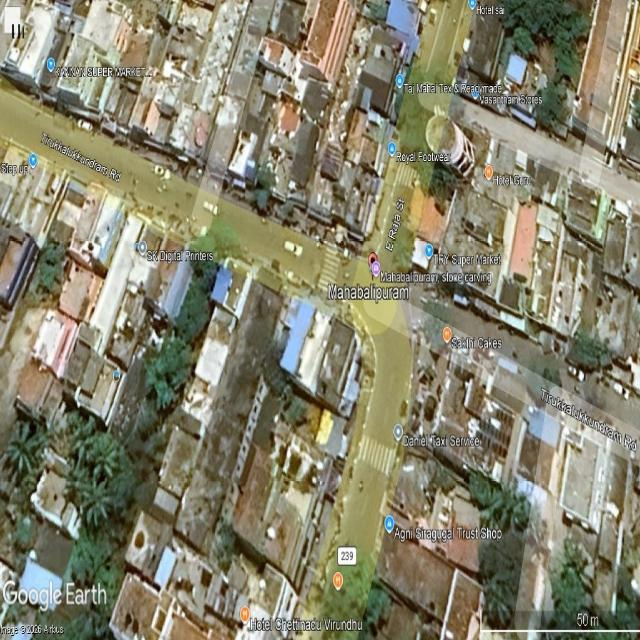objects-ruins-artifacts: (374, 84, 609, 427), (47, 52, 274, 265)
